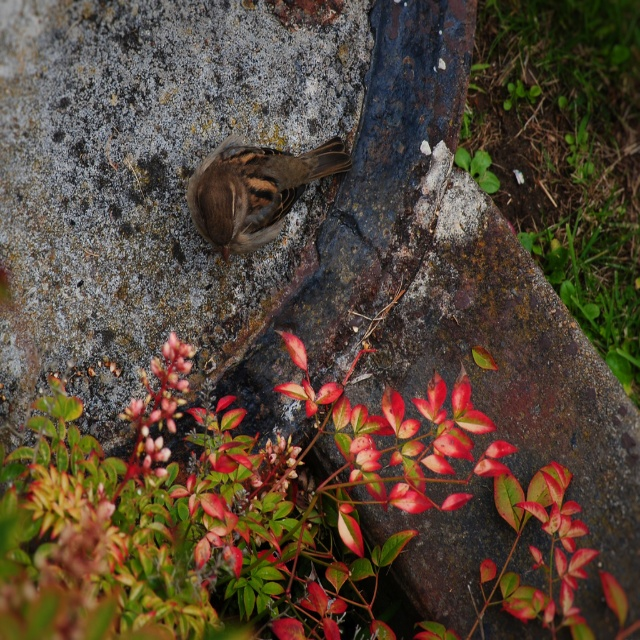Sparrow: (186, 133, 357, 265)
